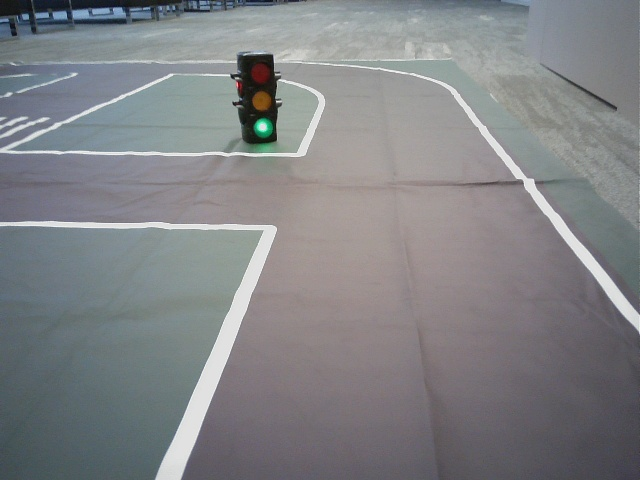green: (245, 55, 277, 140)
